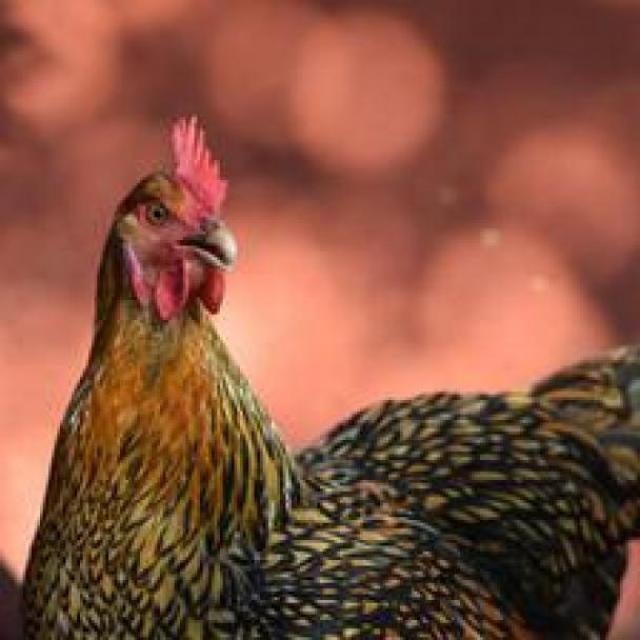Chicken: (2, 108, 640, 640)
